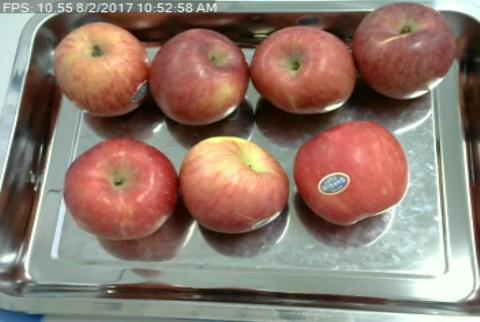apple: (293, 121, 409, 228), (63, 137, 176, 238), (179, 135, 288, 232), (354, 3, 455, 98), (150, 28, 247, 124), (249, 25, 353, 114), (53, 21, 149, 116)
